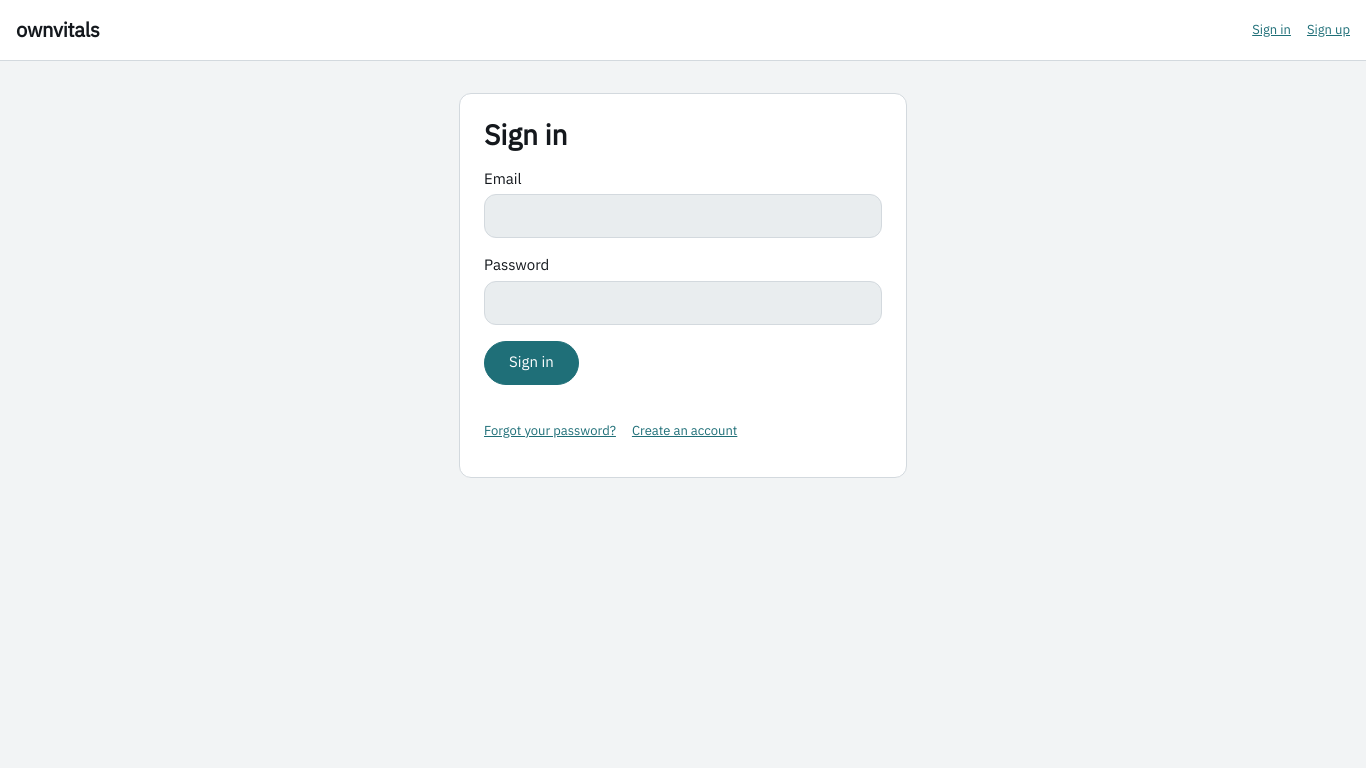
it: sign-in with a password › posts the credentials and lands on the home page when the second factor is done
This screenshot has width=1366, height=768.
Step 1. Type "ann@example.test" into the field labelled "Email" → (683, 216), box [484,194,882,238]
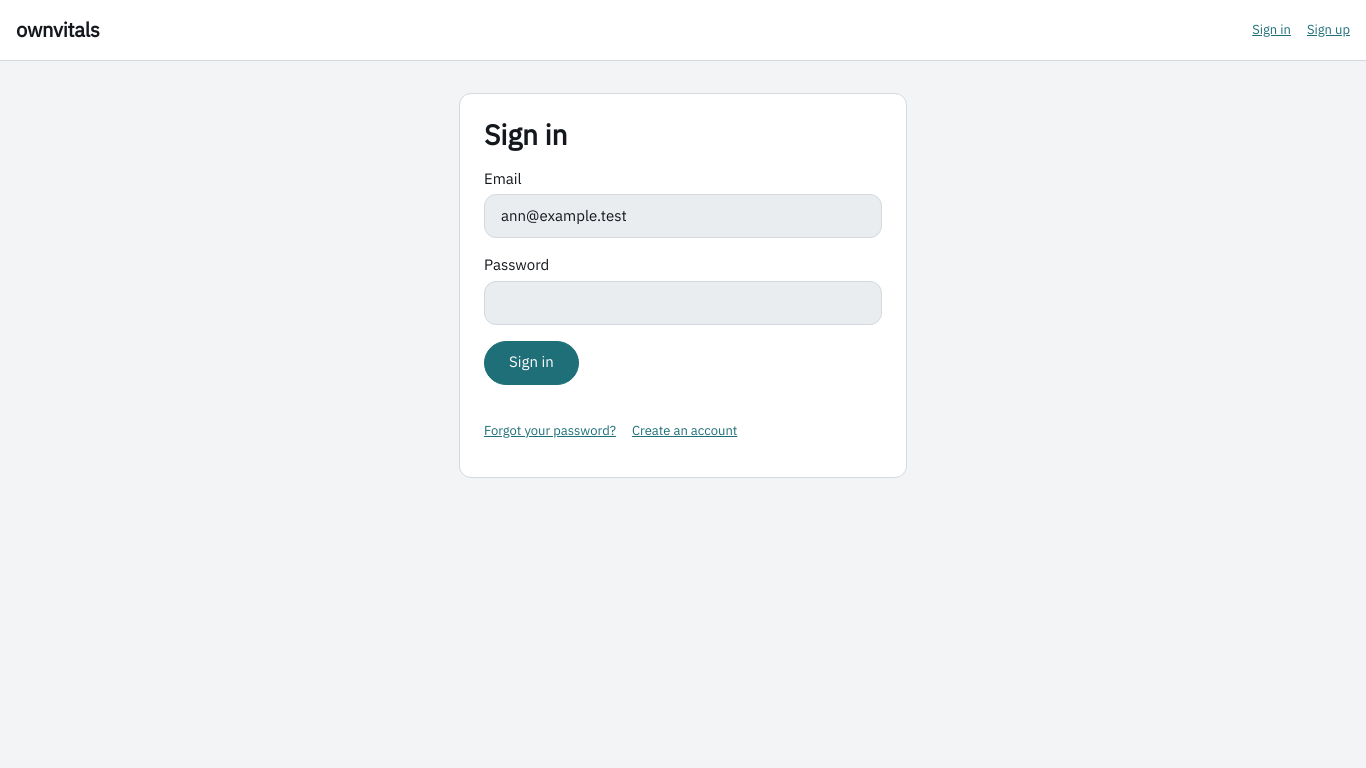
Step 2. Type "correct horse battery" into the password field labelled "Password" → (683, 303), box [484,281,882,325]
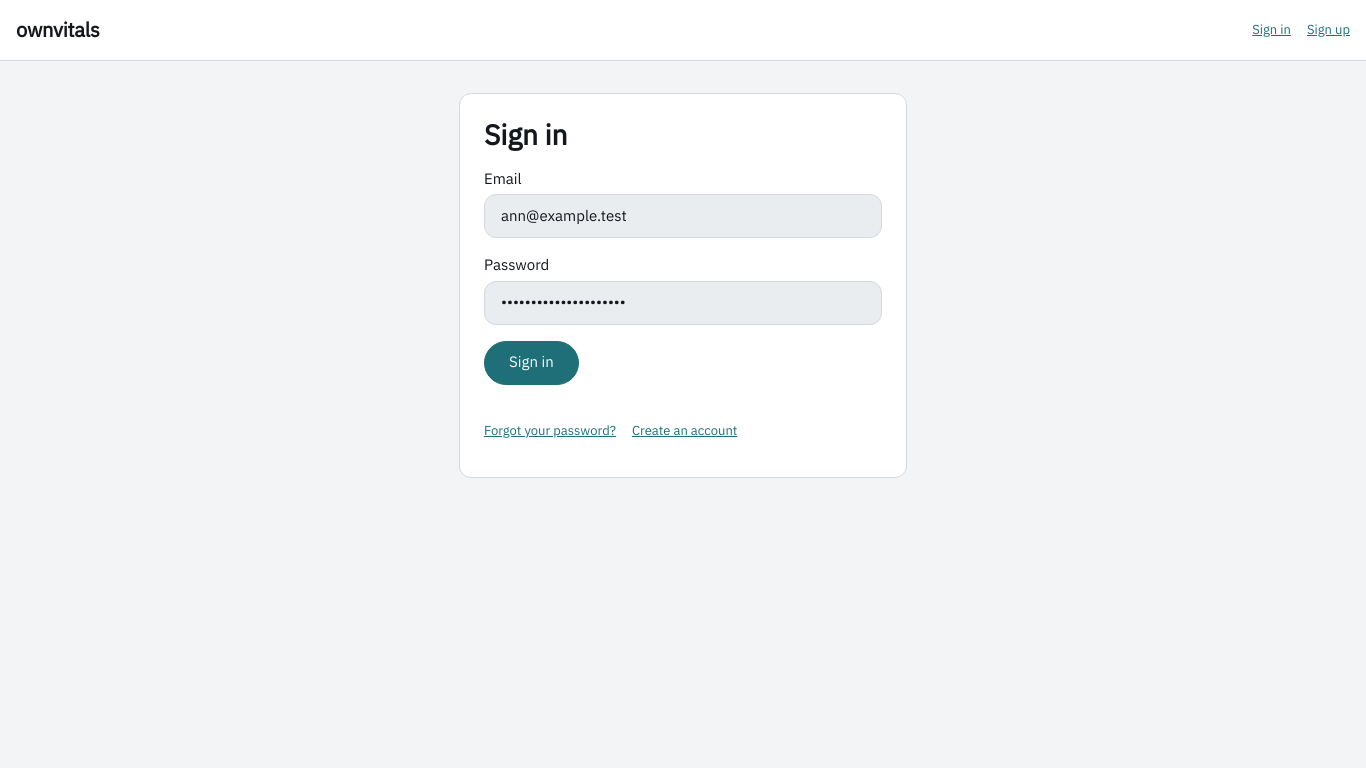
Step 3. Click the button "Sign in" → (531, 363), box [484,341,579,385]
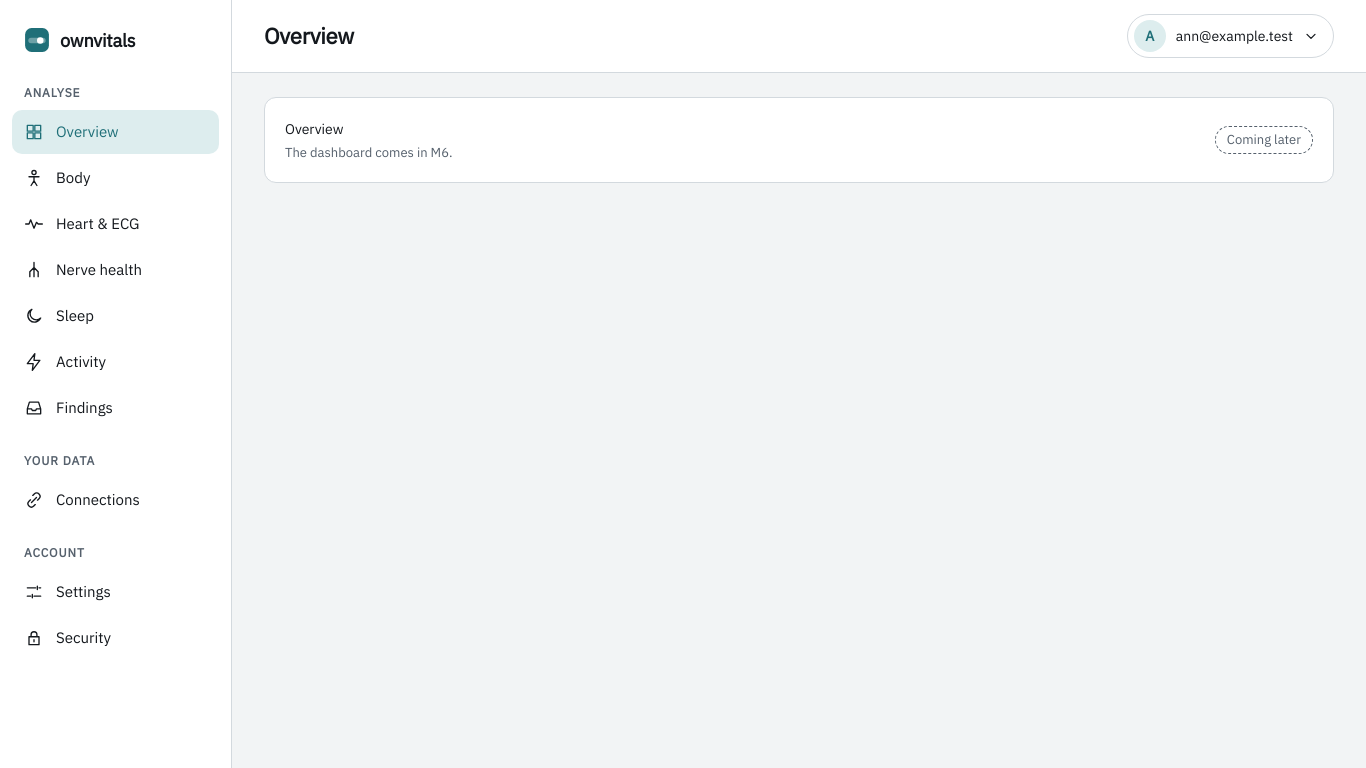
Expected: the text "The dashboard comes in M6." is shown, [285,144,452,160]
